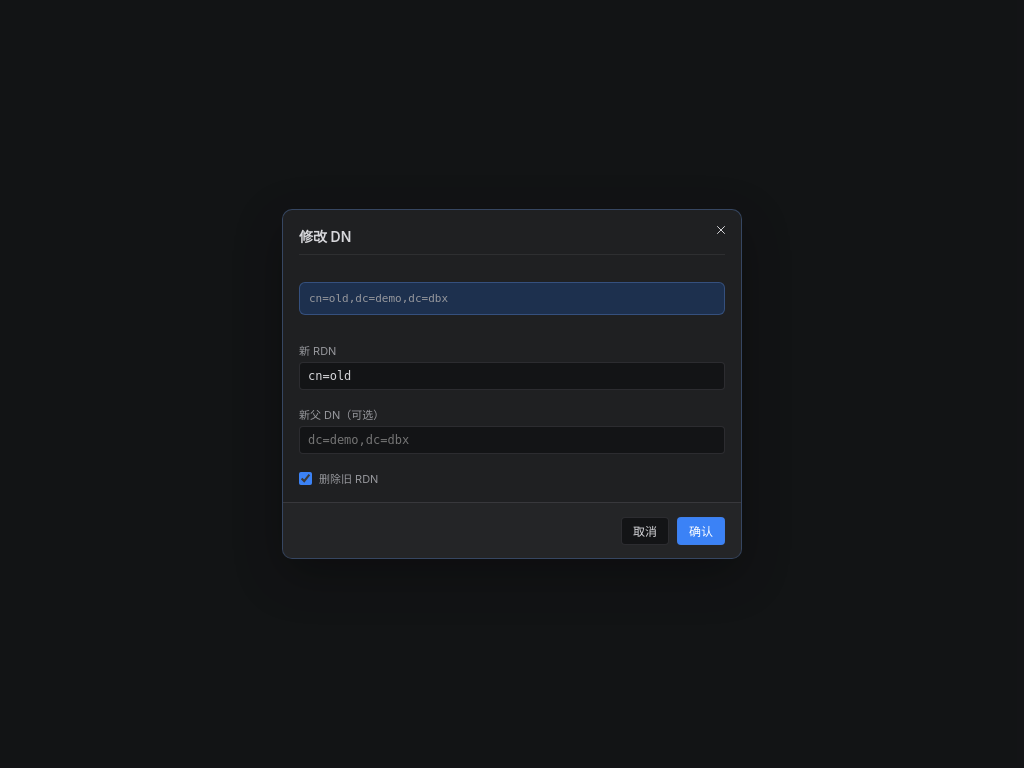
Scenario: ModifyDnDialog › ModifyDnDialog RDN precheck (P2-20) › shows an inline error and disables confirm for a malformed RDN
Replace the text in the field labelled "新 RDN" with "cn=bad,dn" at (512, 376), box [299,362,725,390]
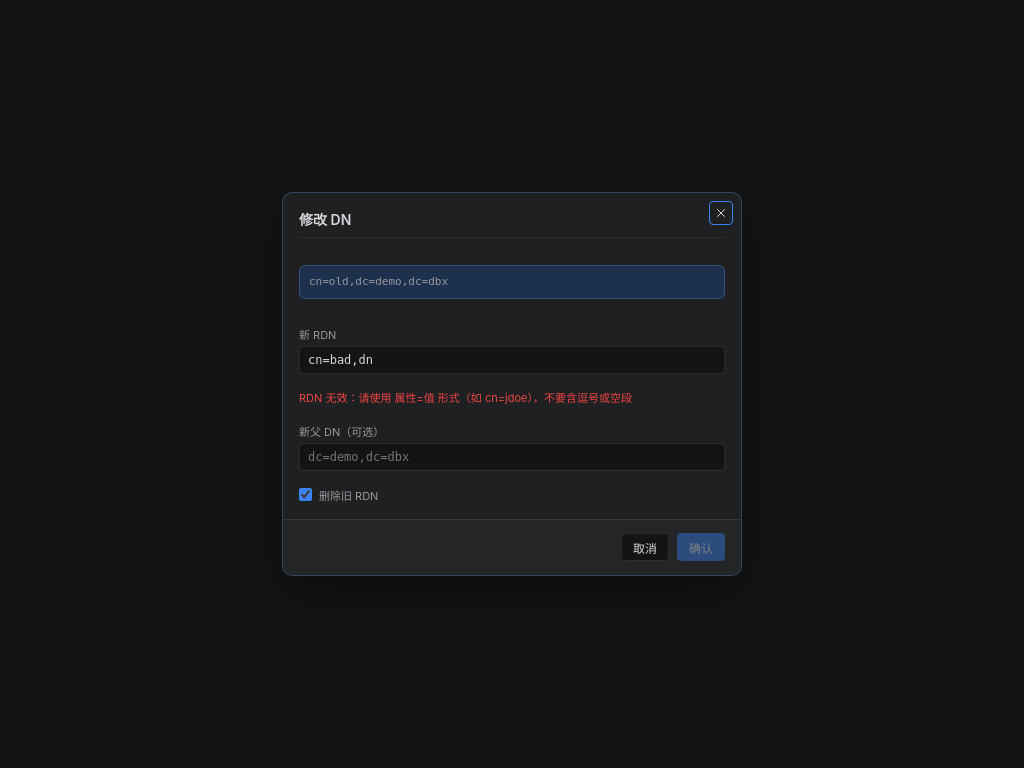
Check: the text "RDN 无效：请使用 属性=值 形式（如 cn=jdoe），不要含逗号或空段" is shown, box [299,390,632,404]
Check: the button "确认" is disabled, box [677,533,725,561]
